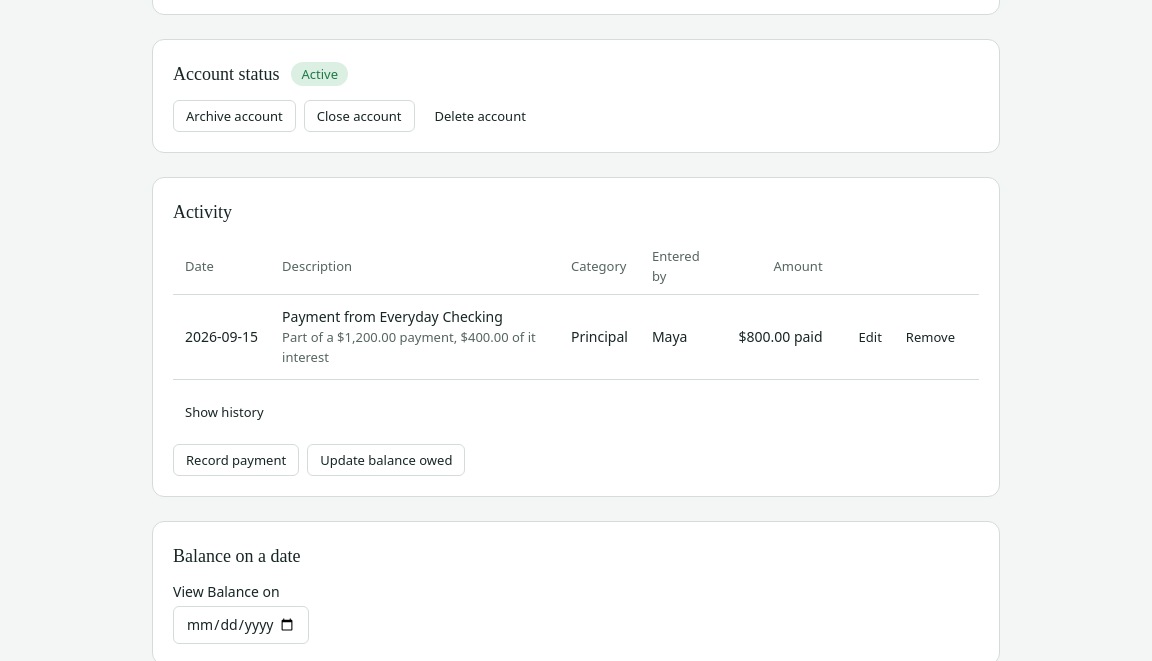
Scenario: changing a mortgage payment › V2_MORTGAGE_005 removing the payment shows both Balances returning and the interest leaving spending; Undo brings it back
(page scrolled)
Click the button with aria-label "Remove payment from" at (930, 337), box [894,321,967,353]
(page scrolled)
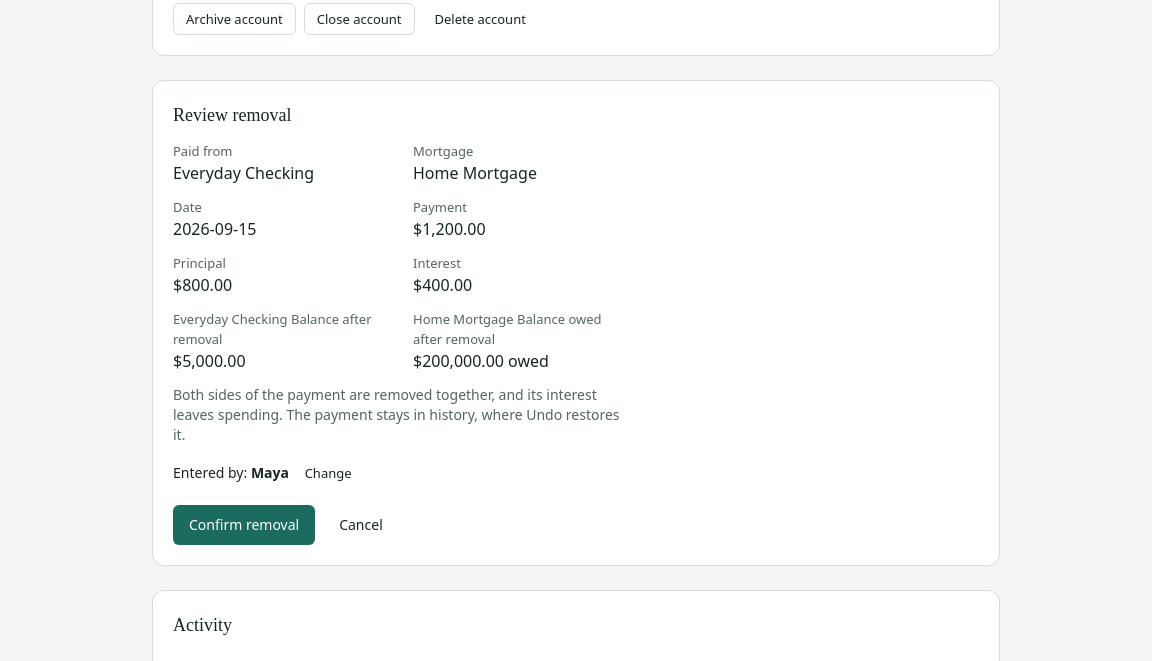
Result: the text "Principal" is shown at [173,254,226,272]
Result: the element "Review removal" shows "Mortgage" at [413,142,473,160]
Click the button "Confirm removal" at (244, 525), box [173,505,315,545]
(page scrolled)
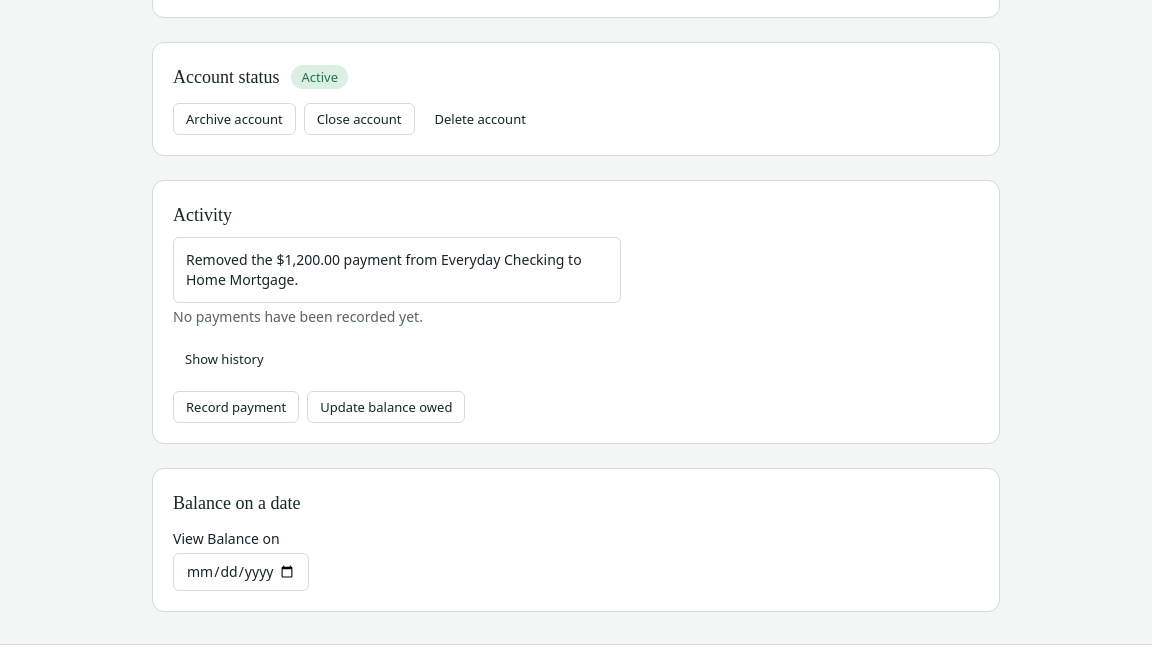
Result: the text "No payments have been recorded yet." is shown at [173,307,423,326]
Click the button "Show history" at (224, 359), box [173,343,276,375]
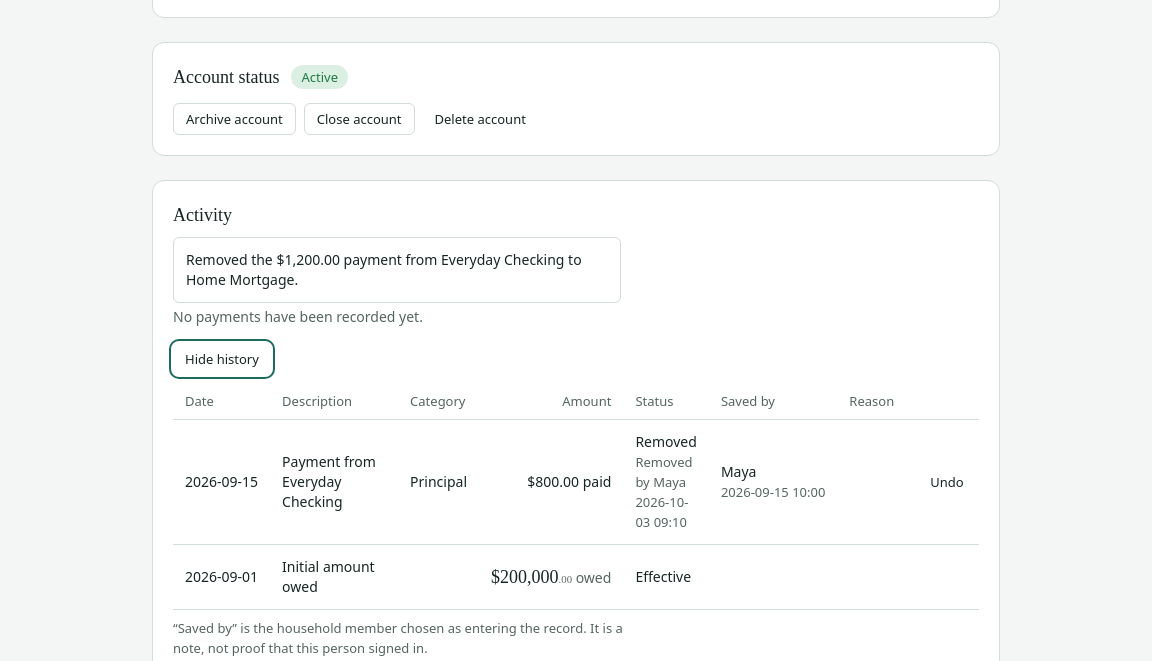
Click the button with aria-label "Undo payment from" at (947, 482), box [918,466,976,498]
(page scrolled)
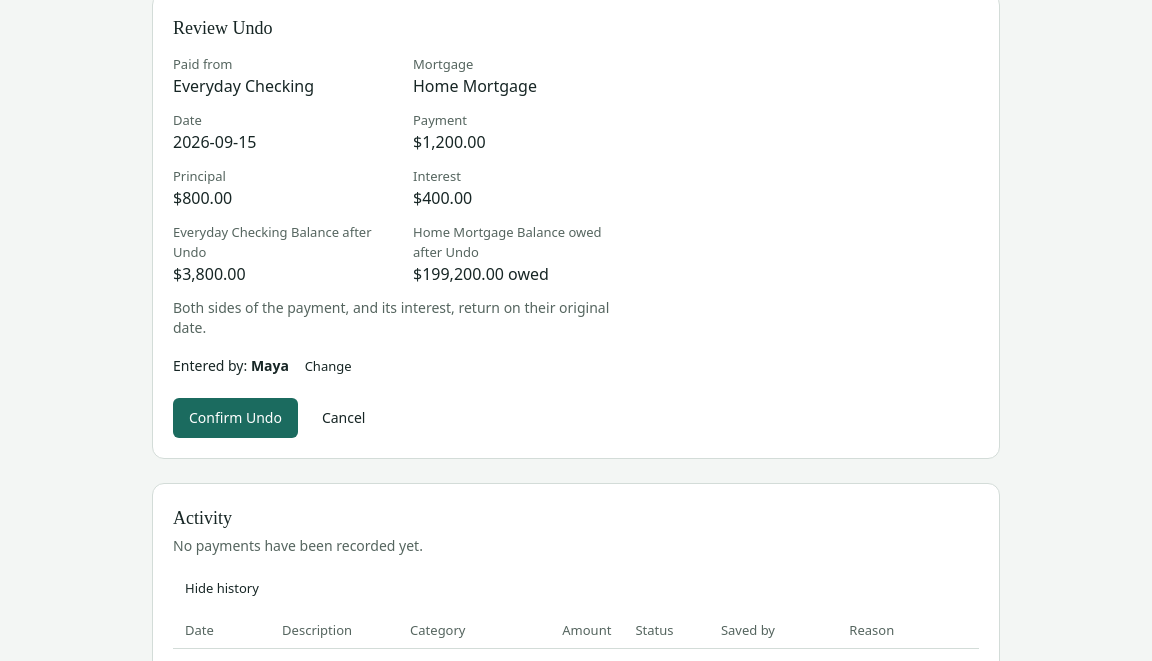
Result: the text "Principal" is shown at [173,167,226,185]
Click the button "Confirm Undo" at (235, 418), box [173,398,298,438]
(page scrolled)
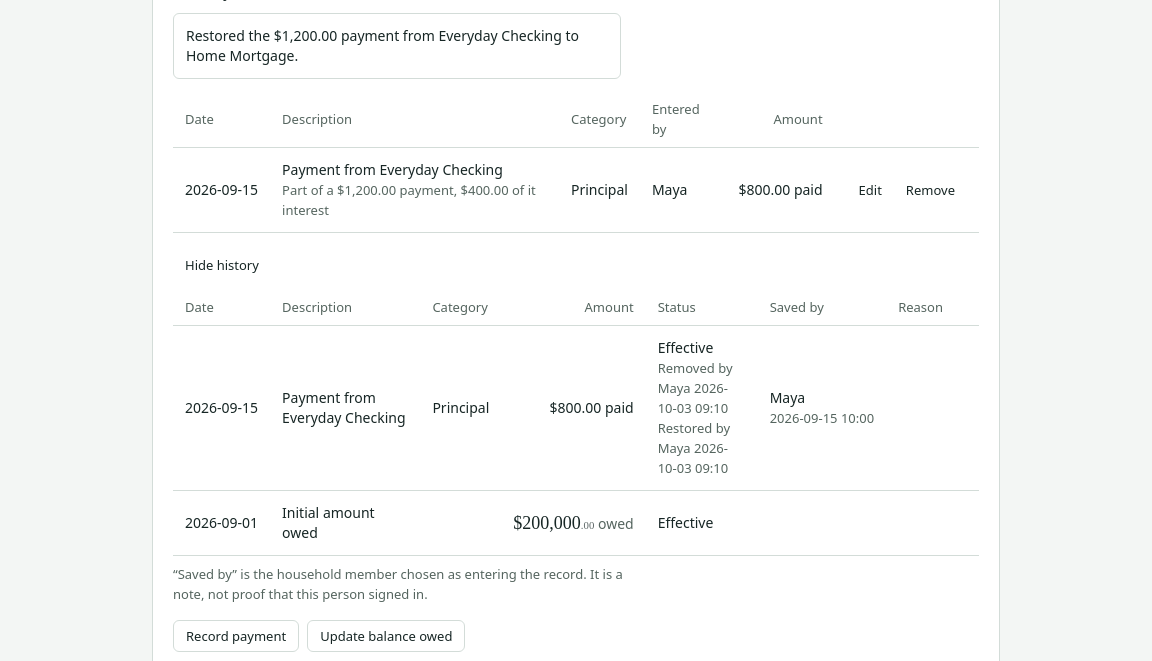
Result: the message shows "Restored the $1,200.00 payment" at [186,26,579,65]
